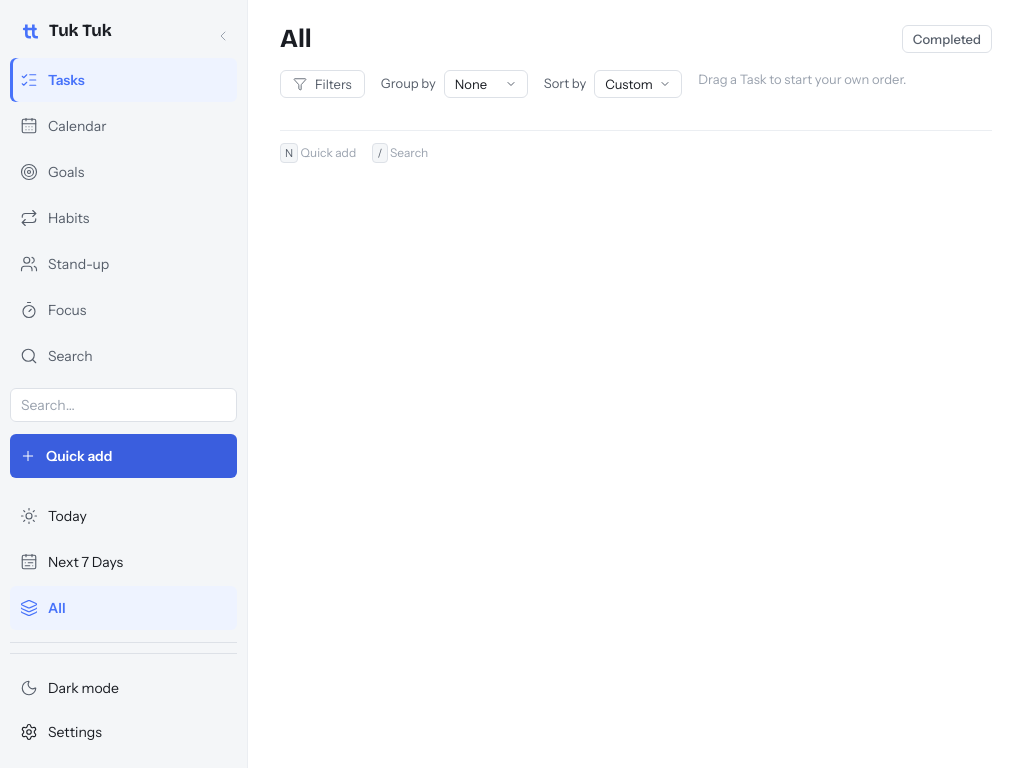
Test: Completing an all-day Task from the Week/Day all-day lane › offers a checkbox on a lane banner without opening that day's draft
Click the link "Calendar". click: x=63, y=126
box: left=20, top=116, right=106, bottom=135
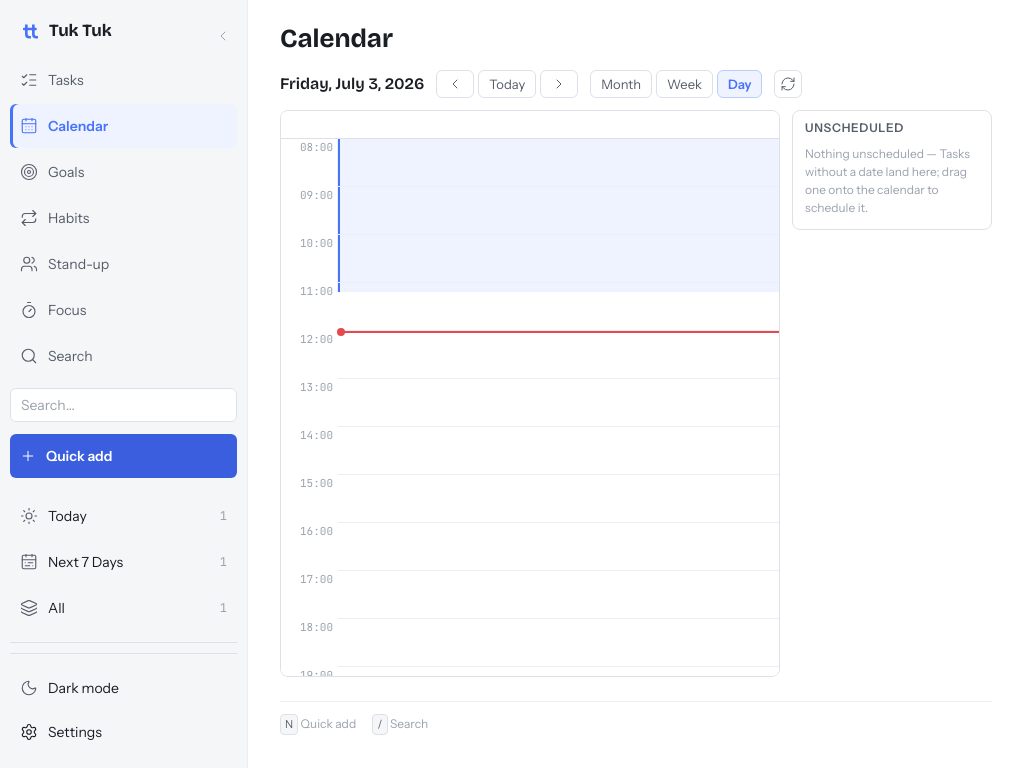
Expected: the heading "Friday, July 3, 2026" is shown, left=280, top=72, right=424, bottom=96
Click the button "Month". click: x=621, y=84
box: left=590, top=70, right=652, bottom=98
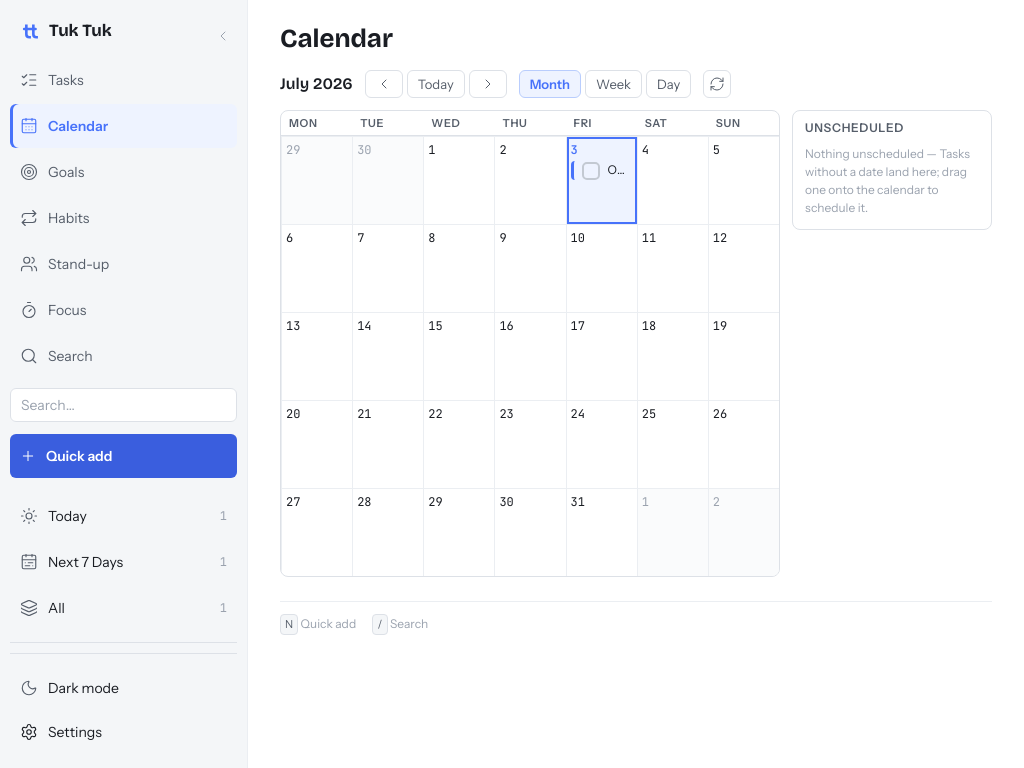
Expected: the heading "July 2026" is shown, left=280, top=72, right=353, bottom=96
Click the button "Day". click: x=669, y=84
box: left=646, top=70, right=691, bottom=98
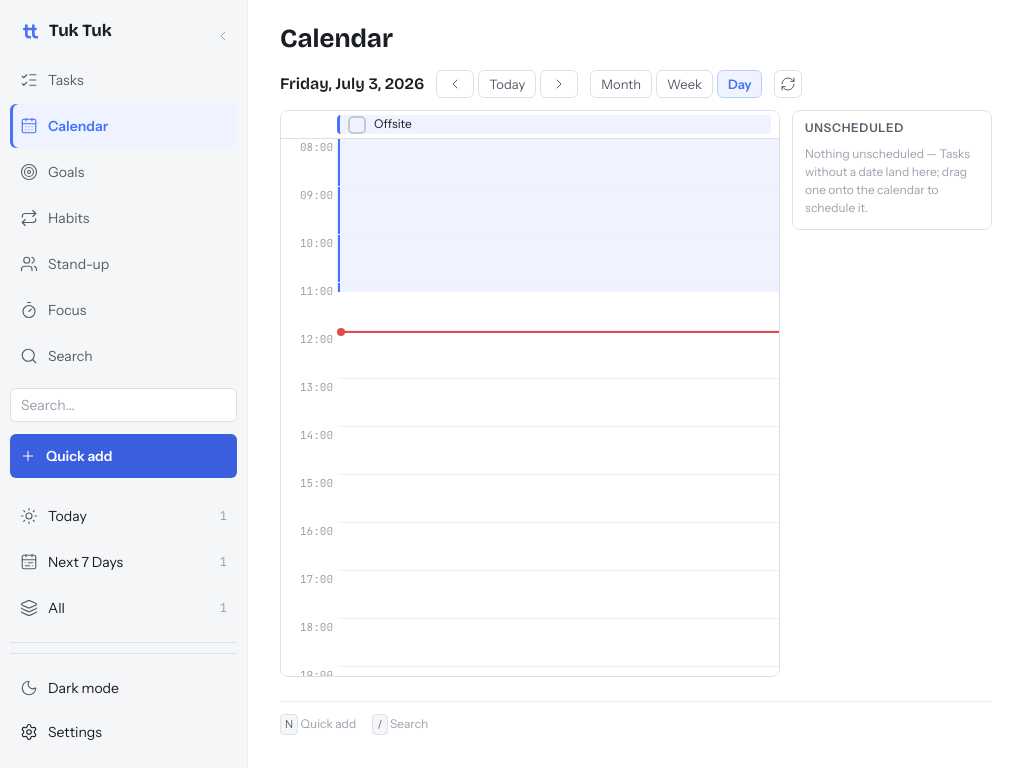
Expected: the heading "Friday, July 3, 2026" is shown, left=280, top=72, right=424, bottom=96
Click the checkbox named "Complete Offsite". click: x=357, y=125
box: left=348, top=116, right=366, bottom=134
Wait 5000 ms
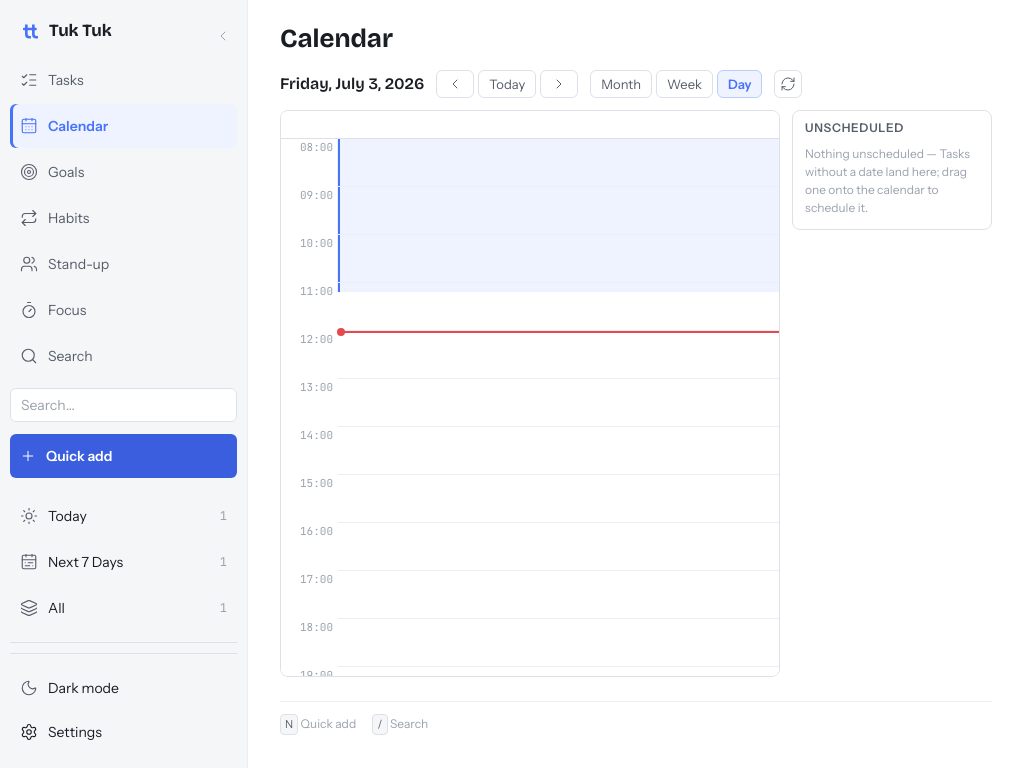
Expected: the text "Offsite" is gone
